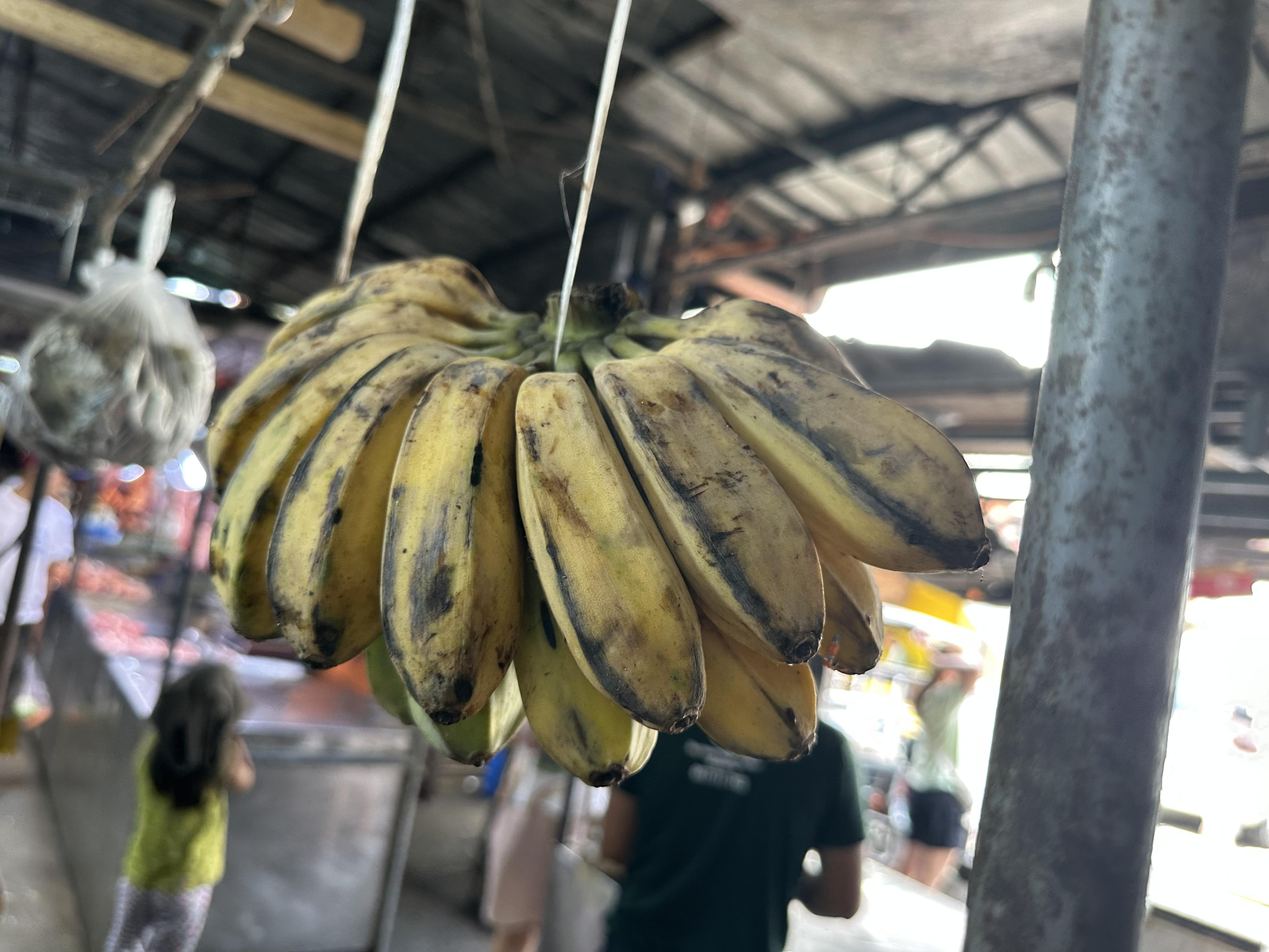ripe: (205, 253, 996, 787)
